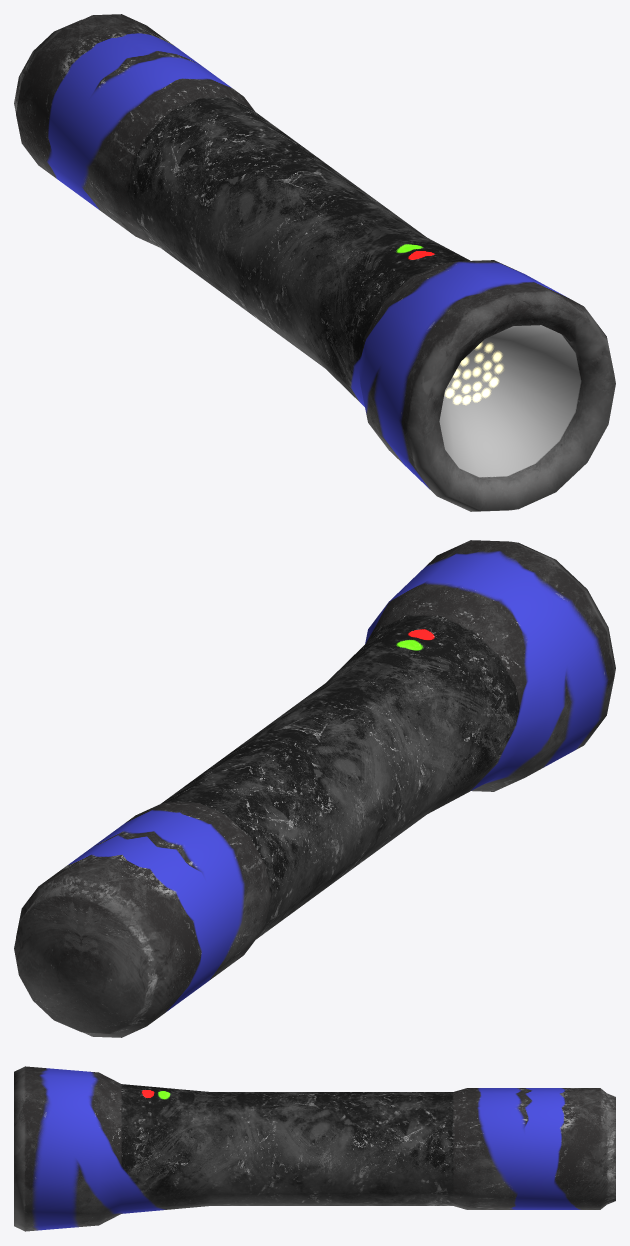
File: Flashlight.fbx
The picture shows the model from 3 angles, top to bottom: view 1: azimuth 30°, elevation 25°; view 2: azimuth 150°, elevation 25°; view 3: azimuth 270°, elevation 25°; orthographic projection. The views are drawn at different scales.
Visible parts, largest first — view 1: Cylinder; view 2: Cylinder; view 3: Cylinder.
Part boxes in pixels (box(x1,y1,x2,y2)): Cylinder: box(14, 14, 615, 511); Cylinder: box(14, 540, 615, 1037); Cylinder: box(14, 1066, 615, 1231).
Size of the model in its own units: 254 by 254 by 926.
Materials: 1 (1 with a texture image).
